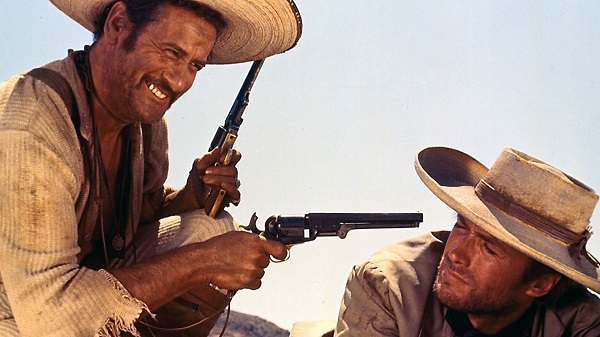gun: (188, 59, 265, 218), (234, 209, 424, 265)
